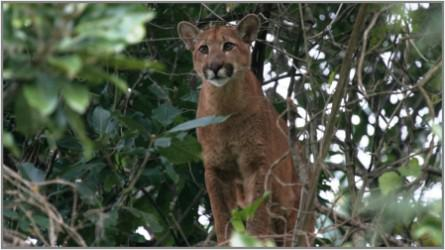OncaParda: (172, 13, 318, 242)
